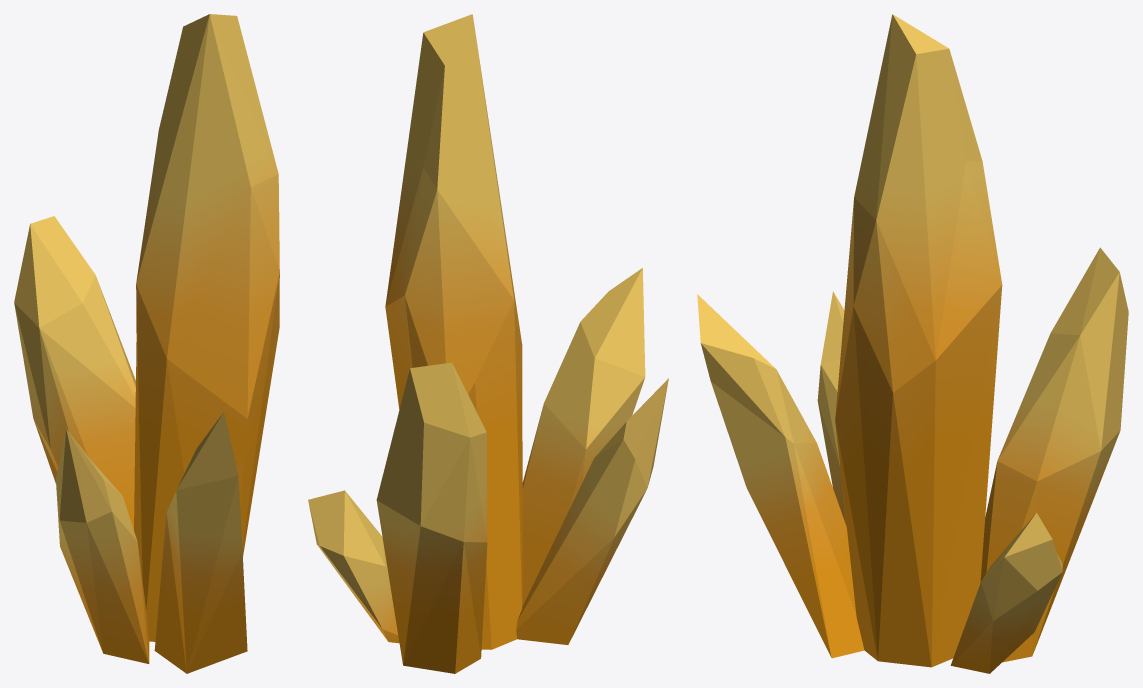
Rendered from gold-crystal1.fbx.
3 renders of one model, left to right at view 1: azimuth 30°, elevation 25°; view 2: azimuth 150°, elevation 25°; view 3: azimuth 270°, elevation 25°, orthographic. The views are drawn at different scales.
Visible parts, largest first — view 1: goldCrystal2.001; view 2: goldCrystal2.001; view 3: goldCrystal2.001.
Part boxes in pixels (bbox=[...]): goldCrystal2.001: bbox=[14, 14, 279, 673]; goldCrystal2.001: bbox=[308, 14, 668, 673]; goldCrystal2.001: bbox=[697, 14, 1128, 673].
Bounding box in the file's own units: 0.6342 × 1.44 × 0.8689.
